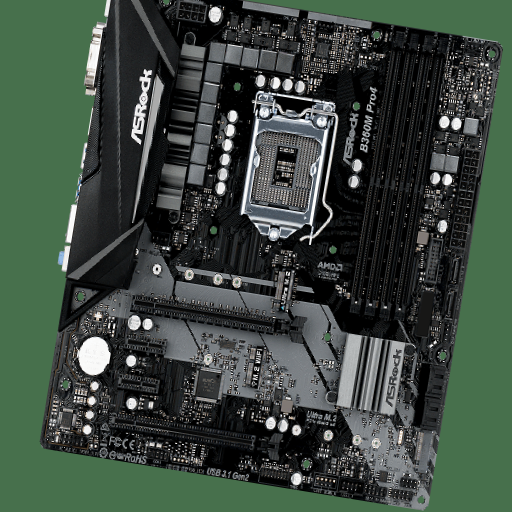CPU: (239, 92, 337, 242)
GPU: (131, 295, 304, 344), (108, 411, 281, 460)
MOTHERBOARD: (42, 1, 504, 508)
RAM: (348, 31, 453, 320)
SSD: (270, 270, 297, 313), (244, 345, 266, 390)
